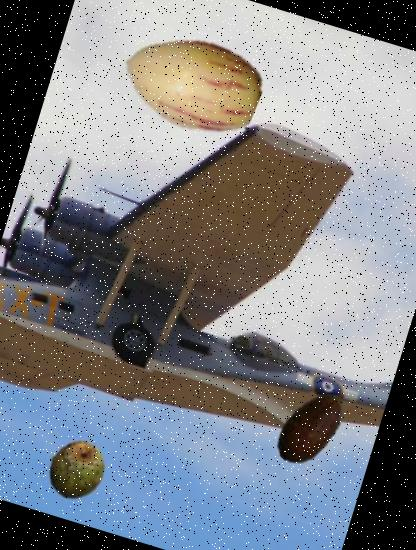Cactus: (36, 430, 115, 509)
Nut: (258, 371, 370, 482)
Pepino: (105, 0, 277, 169)
